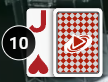j: (27, 8, 51, 35)
